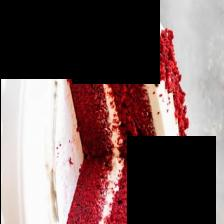red: (149, 28, 188, 224), (104, 53, 157, 160), (63, 55, 110, 157), (104, 161, 155, 224), (66, 158, 111, 224)
